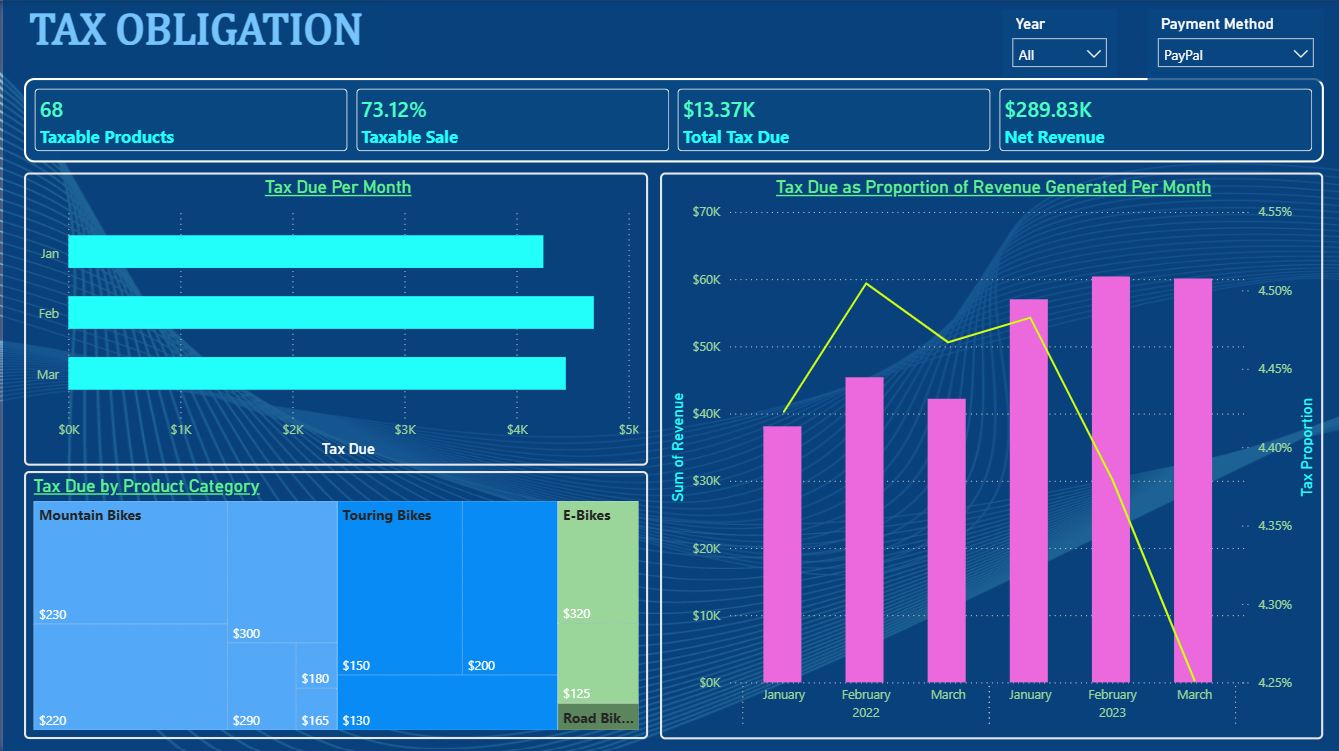

The page's visual inventory and layout, read from the dashboard file:
{"tool":"powerbi","page":{"name":"Tax Obligation","canvas":[1280,720],"ordinal":3},"visuals":[{"type":"slicer","fields":{"Values":["Date.Year"]},"box":[954.4,9.3,110.2,69],"z":0},{"type":"cardVisual","fields":{"Data":["Measure.Taxable Sale","Measure.Taxable Sale Percent","Measure.Total Tax Due","Measure.Net Revenue"]},"box":[19.9,74.3,1241.1,81],"z":1000},{"type":"clusteredBarChart","title":"Tax Due Per Month","fields":{"Category":["Date.Month"],"Y":["Sum(Sales.Tax Due)"]},"box":[19.9,164.6,596,280.1],"z":2000},{"type":"lineClusteredColumnComboChart","title":"Tax Due as Proportion of Revenue Generated Per Month","fields":{"Category":["Date.Date.Variation.Date Hierarchy.Year","Date.Date.Variation.Date Hierarchy.Month"],"Y":["Sum(Sales.Revenue)"],"Y2":["Measure.Tax Proportion"]},"box":[627.8,164.6,633.1,541.6],"z":3000},{"type":"slicer","fields":{"Values":["Sales.Payment Method"]},"box":[1092.4,9.3,168.6,69],"z":4000},{"type":"treemap","title":"Tax Due by Product Category ","fields":{"Details":["Sales.Tax Due"],"Group":["Sales.Product Category "],"Values":["Sum(Sales.Tax Due)"]},"box":[19.9,450,596,256.2],"z":5000},{"type":"textbox","box":[19.9,0,343.8,63.7],"z":6001}]}

Visuals, with their boxes in screenshot pixels (x1, y1, x2, y2), scaled from the page's 1280x720 canvas onto the 1339x751 screenshot:
slicer - Date.Year: box(998, 10, 1114, 82)
cardVisual - Measure.Taxable Sale x Measure.Taxable Sale Percent: box(21, 77, 1319, 162)
"Tax Due Per Month" clusteredBarChart: box(21, 172, 644, 464)
"Tax Due as Proportion of Revenue Generated Per Month" lineClusteredColumnComboChart: box(657, 172, 1319, 737)
slicer - Sales.Payment Method: box(1143, 10, 1319, 82)
"Tax Due by Product Category " treemap: box(21, 469, 644, 737)
textbox: box(21, 0, 380, 66)
